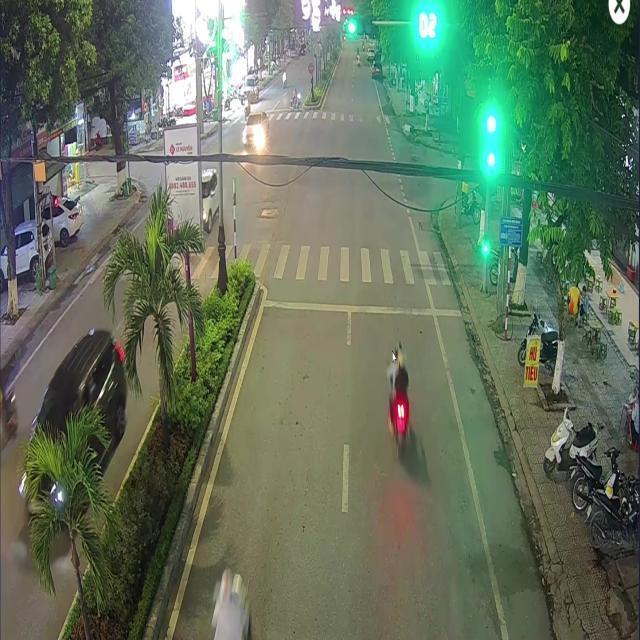green_light: (345, 17, 372, 35), (486, 133, 495, 167), (483, 232, 487, 251)
motobike: (210, 567, 250, 638), (388, 365, 408, 456)
stop_line: (263, 299, 463, 316)
